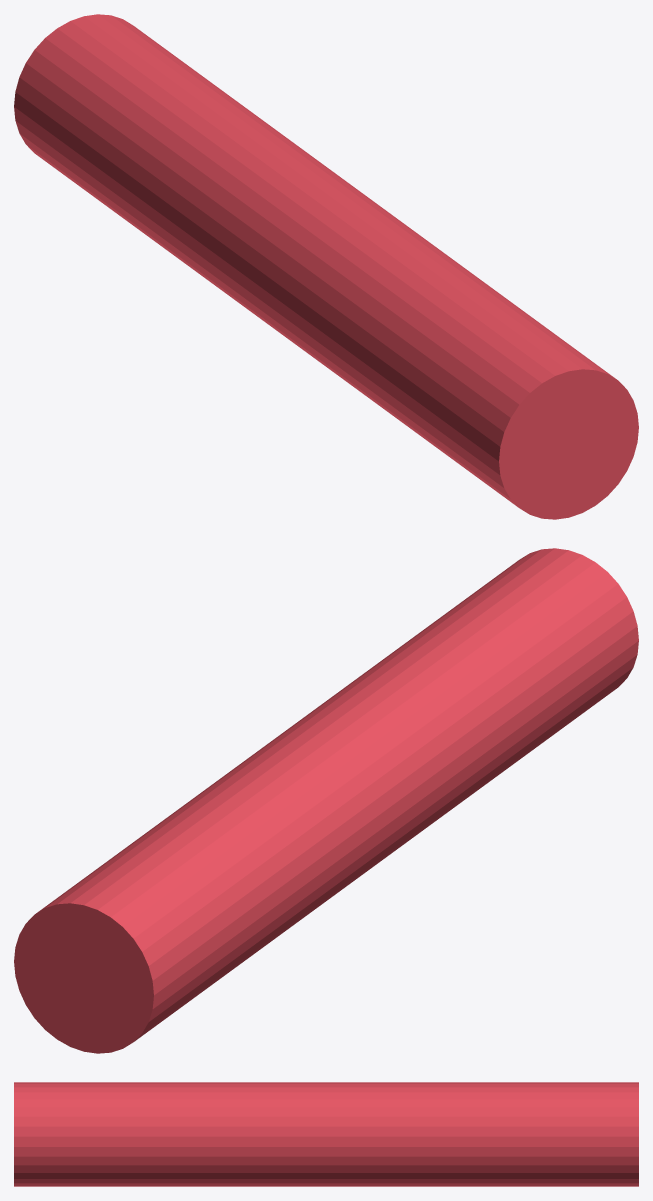
Rendered from paddle.glb.
The picture shows the model from 3 angles, top to bottom: view 1: azimuth 30°, elevation 25°; view 2: azimuth 150°, elevation 25°; view 3: azimuth 270°, elevation 25°; orthographic projection. The views are drawn at different scales.
Visible parts, largest first — view 1: Cylinder; view 2: Cylinder; view 3: Cylinder.
Part boxes in pixels (x1,y1,x2,y2): Cylinder: (14,14,638,519); Cylinder: (14,548,638,1053); Cylinder: (14,1082,638,1186).
Bounding box in the file's own units: 2 × 2 × 12.
